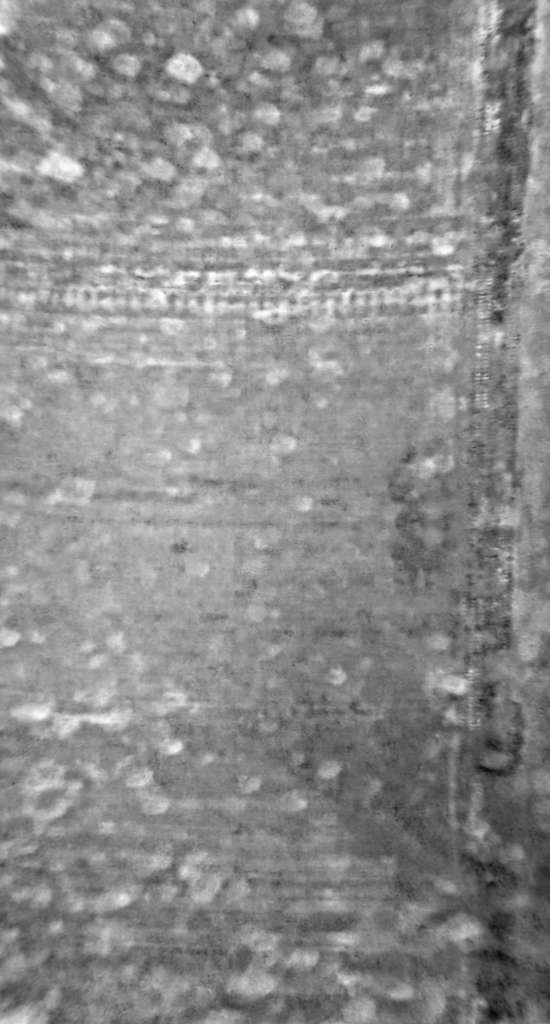splice: (468, 4, 549, 1019)
